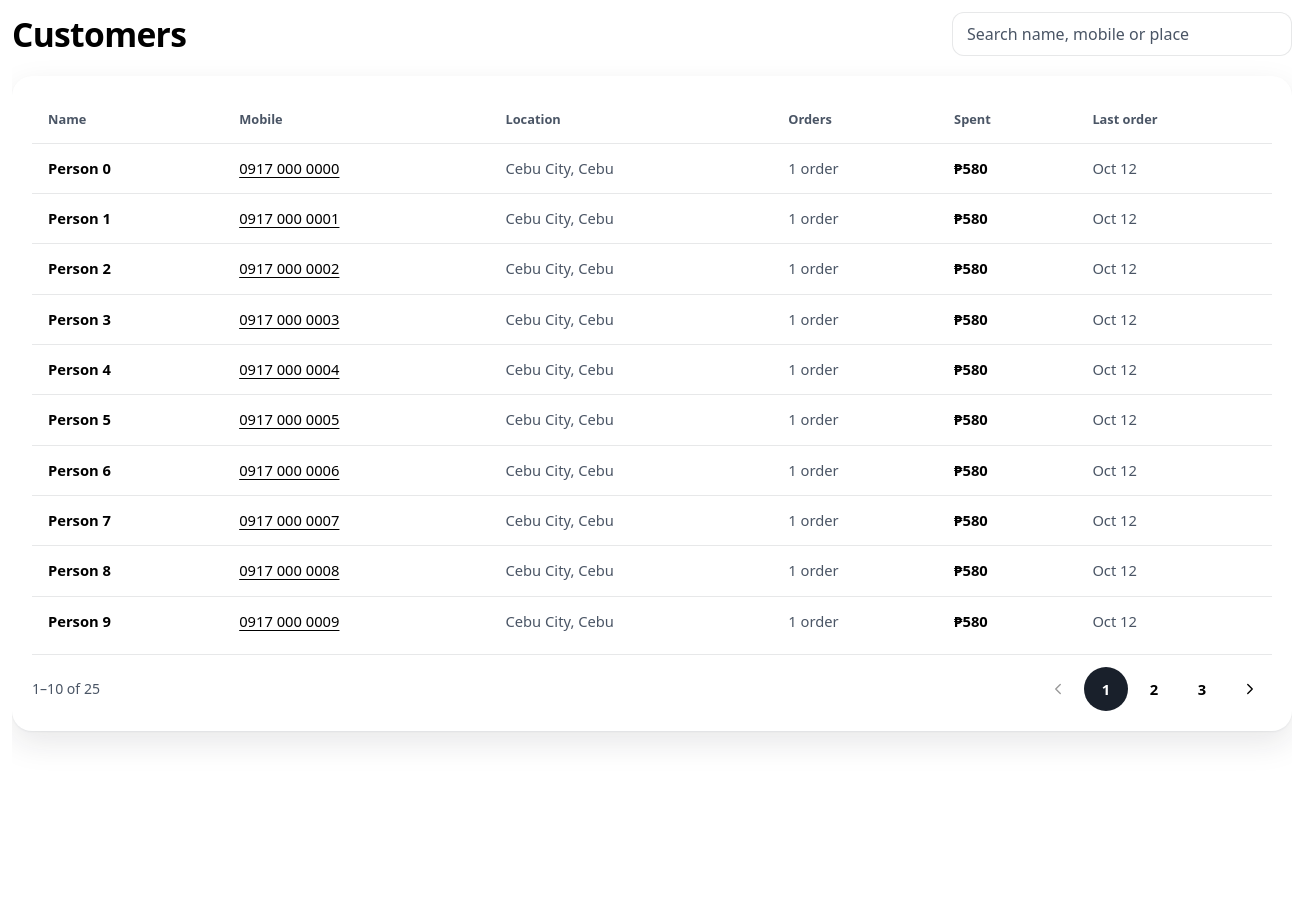
Test: CustomersPage › goes back to the first page when the search changes
Click the button named "Next page".
click(1250, 689)  # box [1228,667,1272,711]
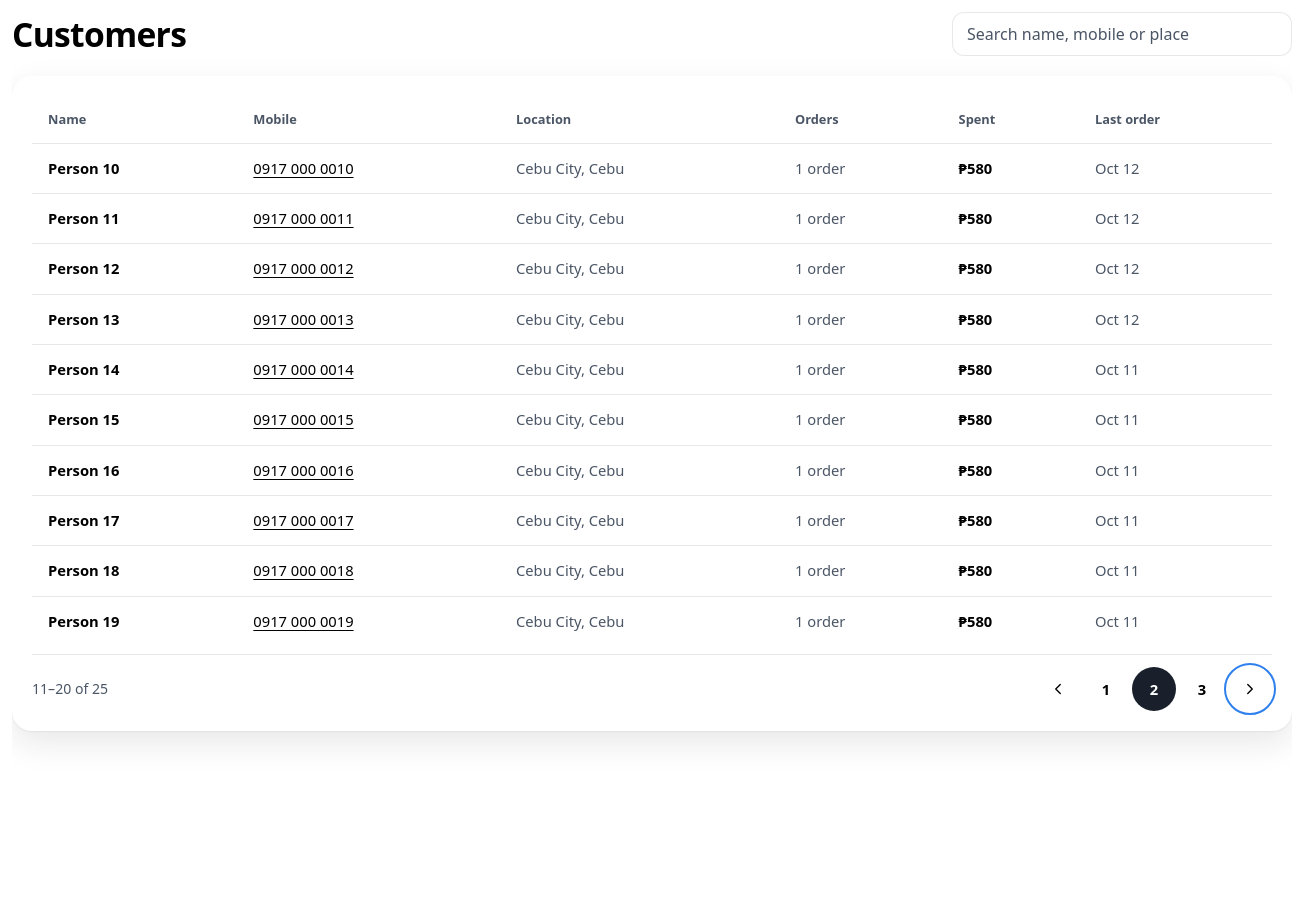
Now the column heading "Person 10" is shown, box [32,144,237,194]
Note: Everyone is "Person" something, so the search keeps all 25 but starts again at the first page.
Type "person" into the search field.
click(1122, 34); type("person")  # box [952,12,1292,56]
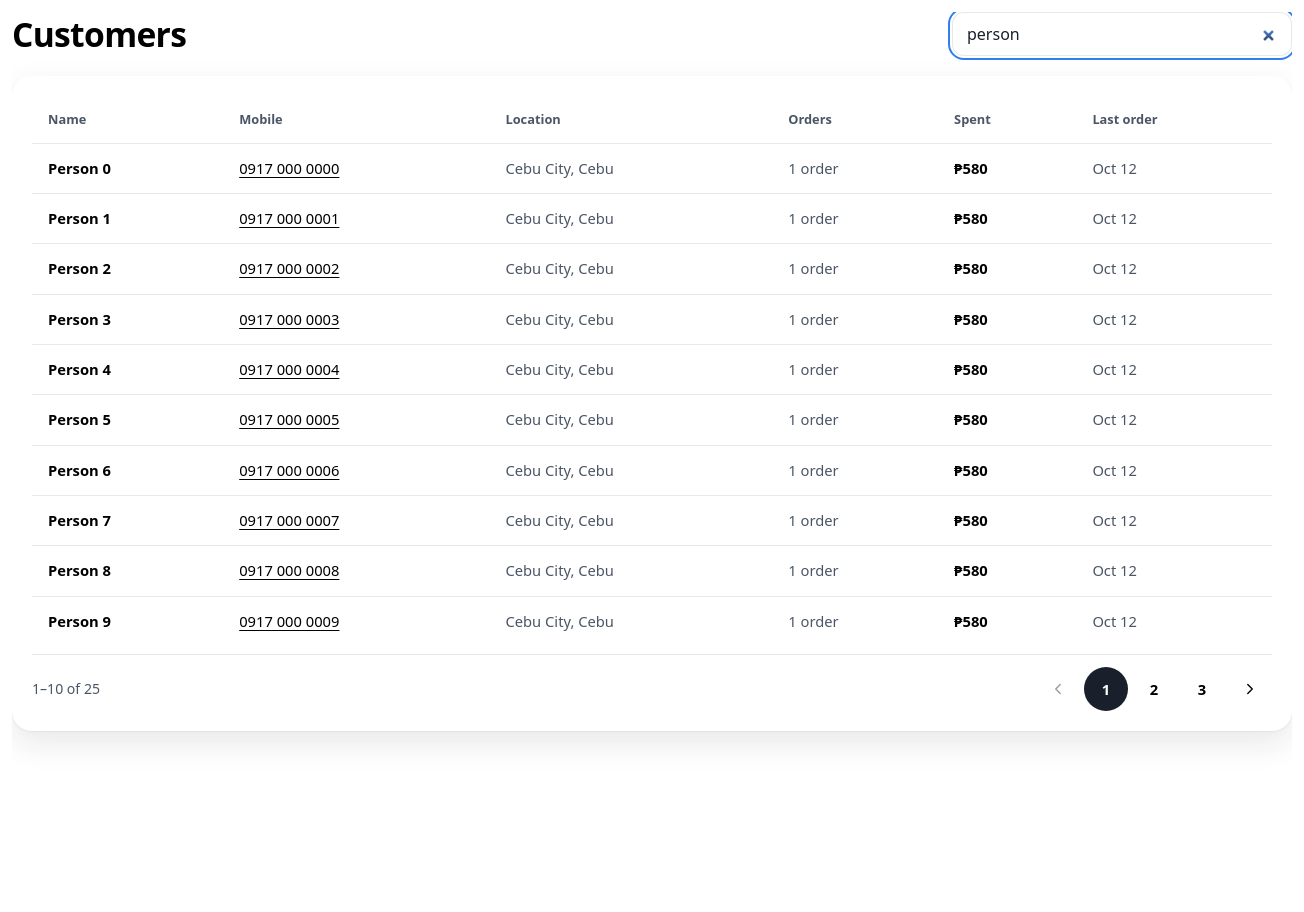
Now the column heading "Person 0" is shown, box [32,144,223,194]
Now the navigation bar named "Pagination" shows "1–10 of 25", box [32,679,100,698]
Type " 12" into the search field.
click(1122, 34); type(" 12")  # box [952,12,1292,56]
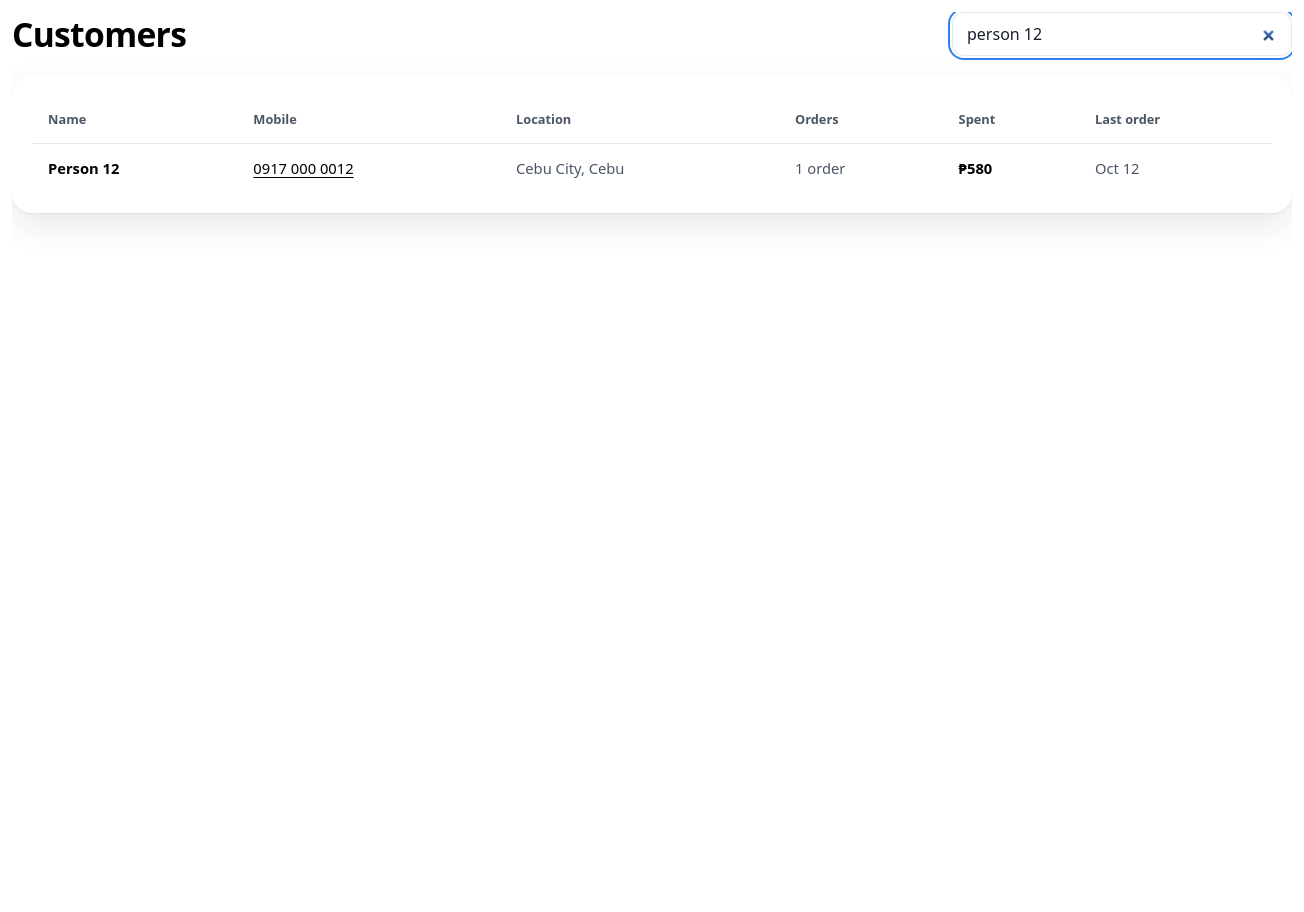
Now the navigation bar "Pagination" is gone
